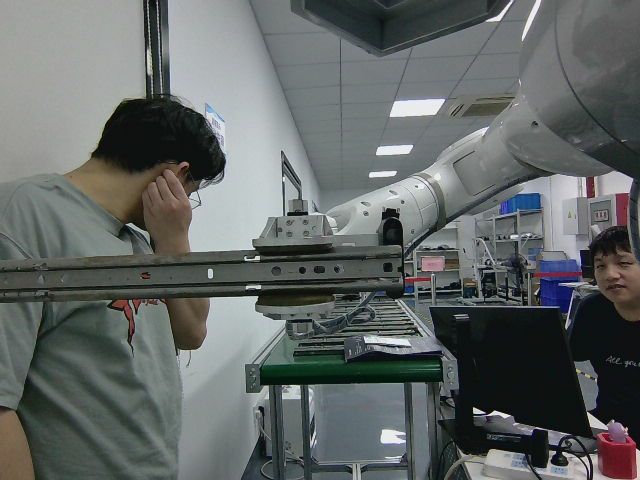left: (2, 245, 407, 301)
